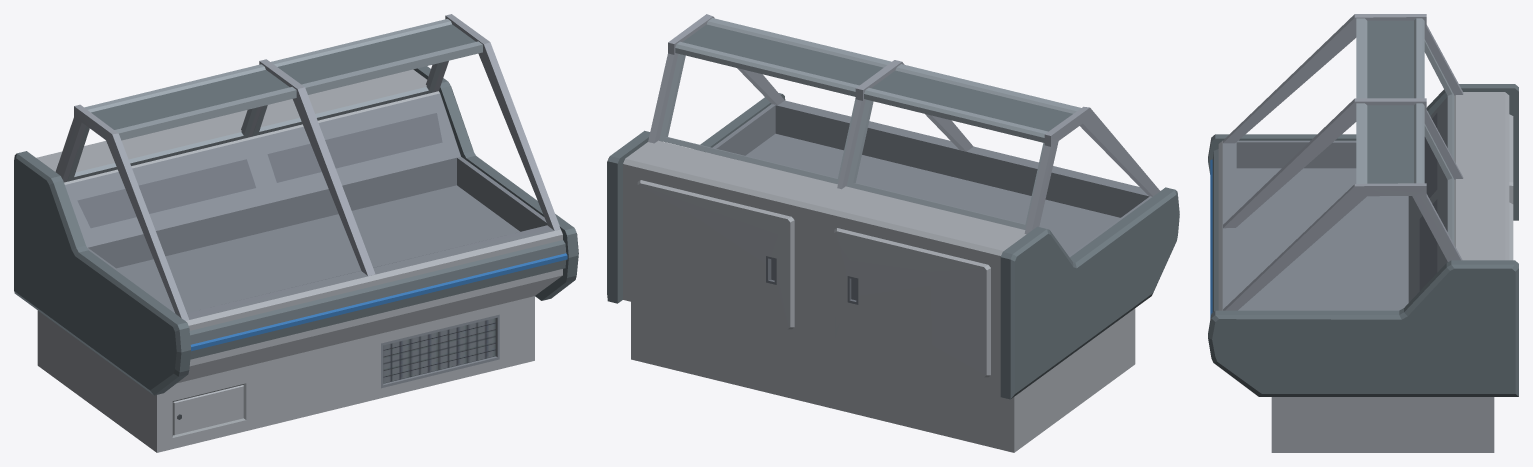
Rendered from SM_Prop_Market_Deli_Fridge_01.obj.
The picture shows the model from 3 angles, left to right: view 1: azimuth 30°, elevation 25°; view 2: azimuth 150°, elevation 25°; view 3: azimuth 270°, elevation 25°; orthographic projection. The views are drawn at different scales.
Visible parts, largest first — view 1: SM_Prop_Market_Deli_Fridge_01_0; view 2: SM_Prop_Market_Deli_Fridge_01_0; view 3: SM_Prop_Market_Deli_Fridge_01_0.
Boxes of the visible parts, <box> form: SM_Prop_Market_Deli_Fridge_01_0: <box>14,14,578,452</box>; SM_Prop_Market_Deli_Fridge_01_0: <box>607,14,1179,452</box>; SM_Prop_Market_Deli_Fridge_01_0: <box>1208,14,1518,452</box>.
Bounding box in the file's own units: 2.21 × 1.5 × 1.59.
1 material, 1 textured.
